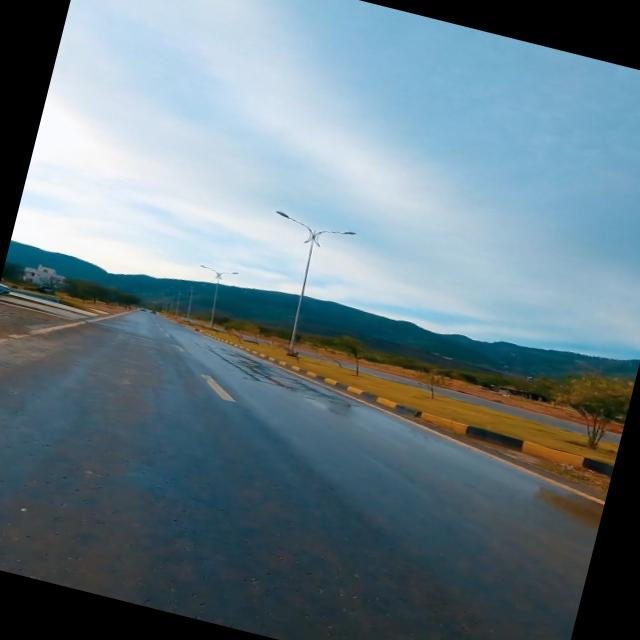asphalt: (0, 310, 603, 640)
grass: (243, 343, 619, 464)
